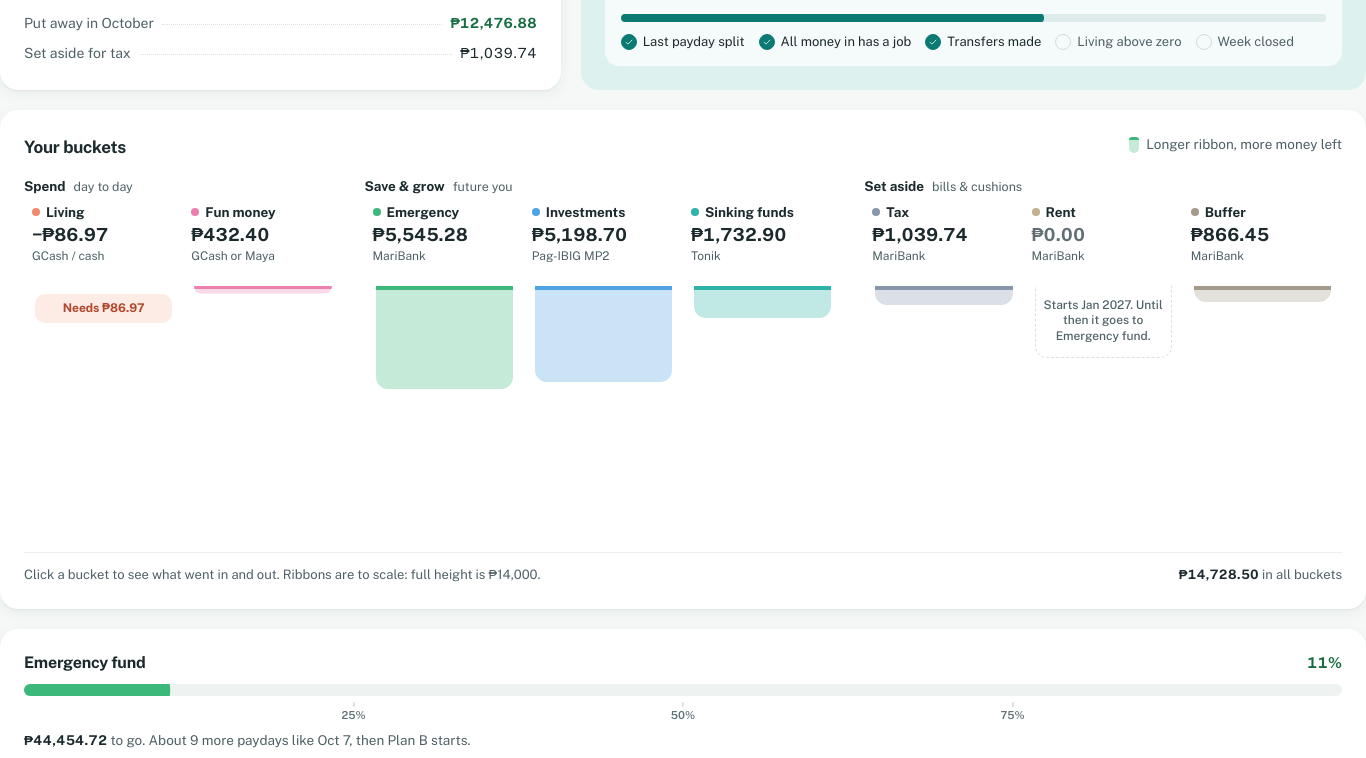
Test case: Cover from Buffer › covers from the drawer, shows the flag and announces it
(page scrolled)
Click the button with test id "slot-living".
click(104, 375)  # box [24,204,183,546]
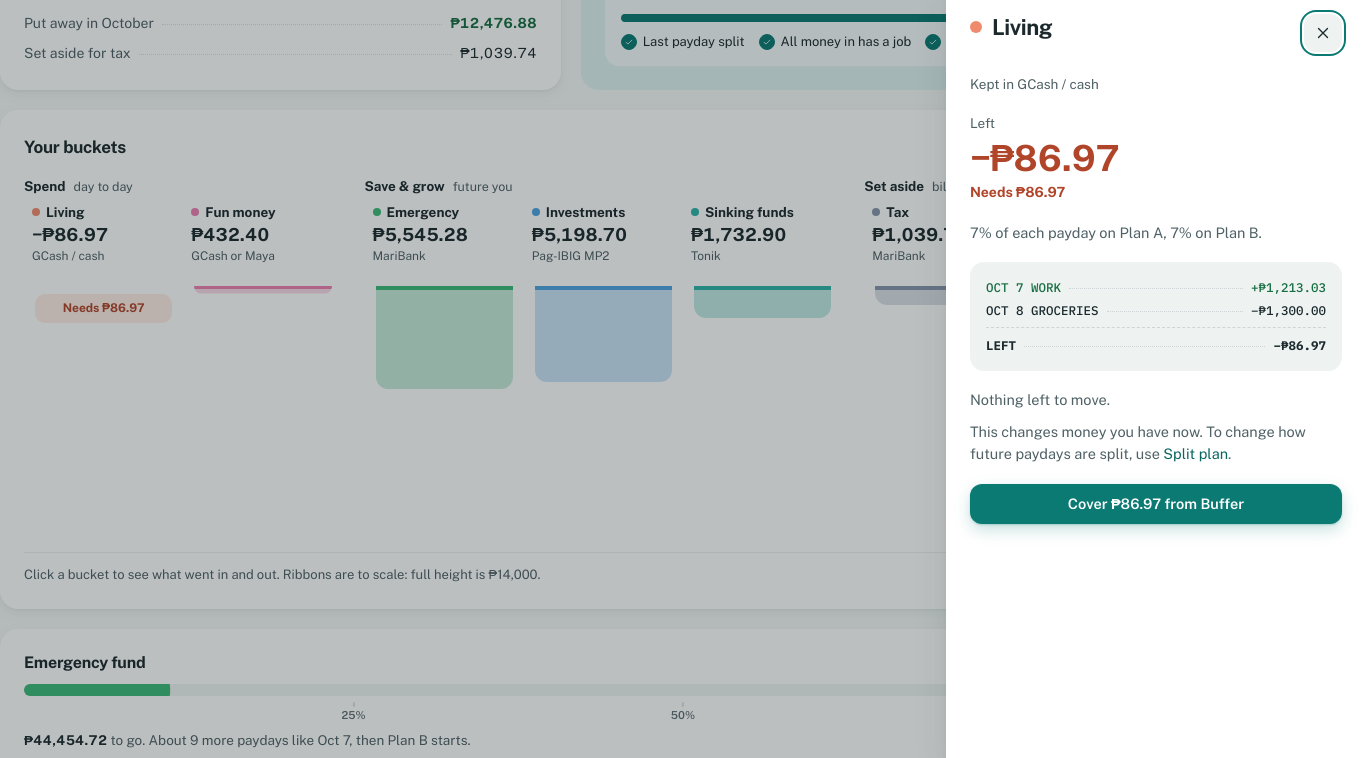
Click the button "Cover ₱86.97 from Buffer".
click(1156, 504)  # box [970,484,1342,524]
(page scrolled)
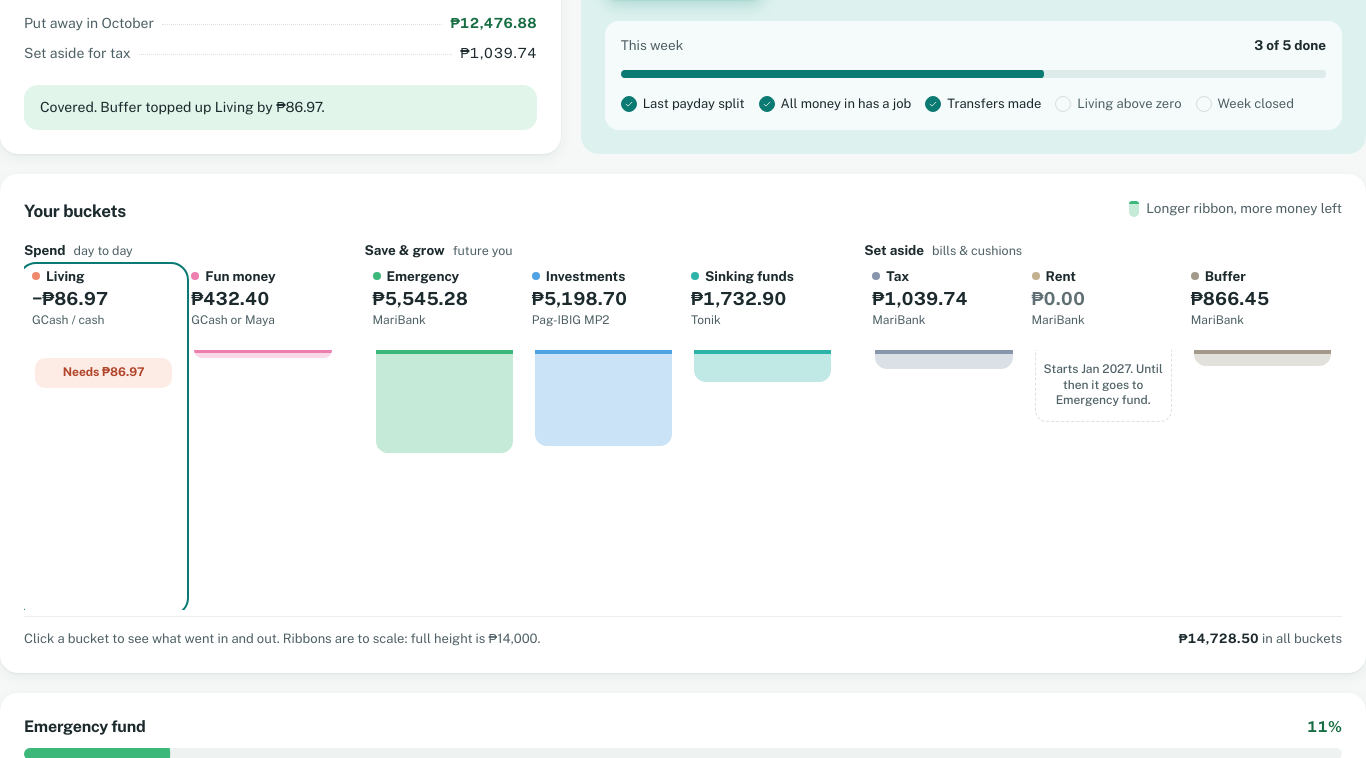
Expected: the element with test id "cover-flag" reads "Covered. Buffer topped up Living by ₱86.97.", [40,98,325,114]
